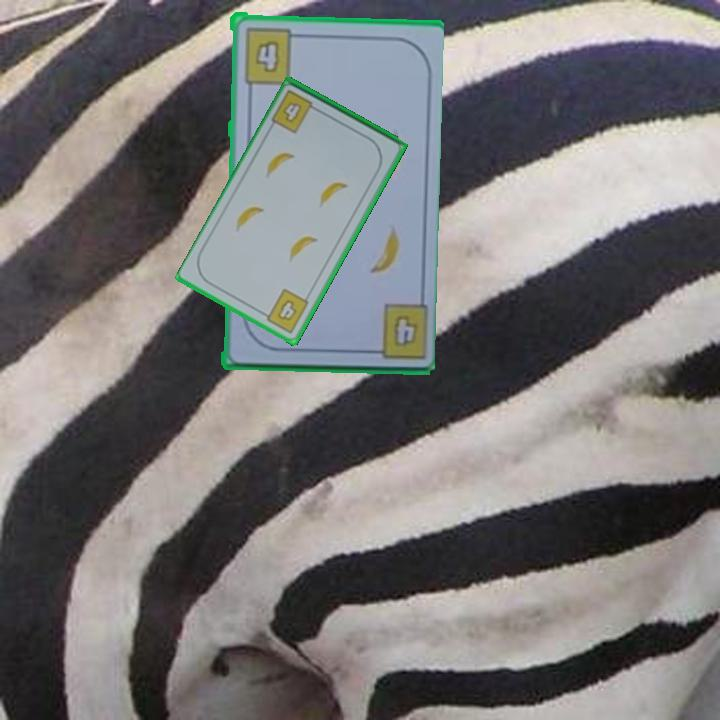4b: (361, 299, 427, 361), (239, 23, 303, 86), (258, 285, 312, 336), (268, 86, 323, 136)
